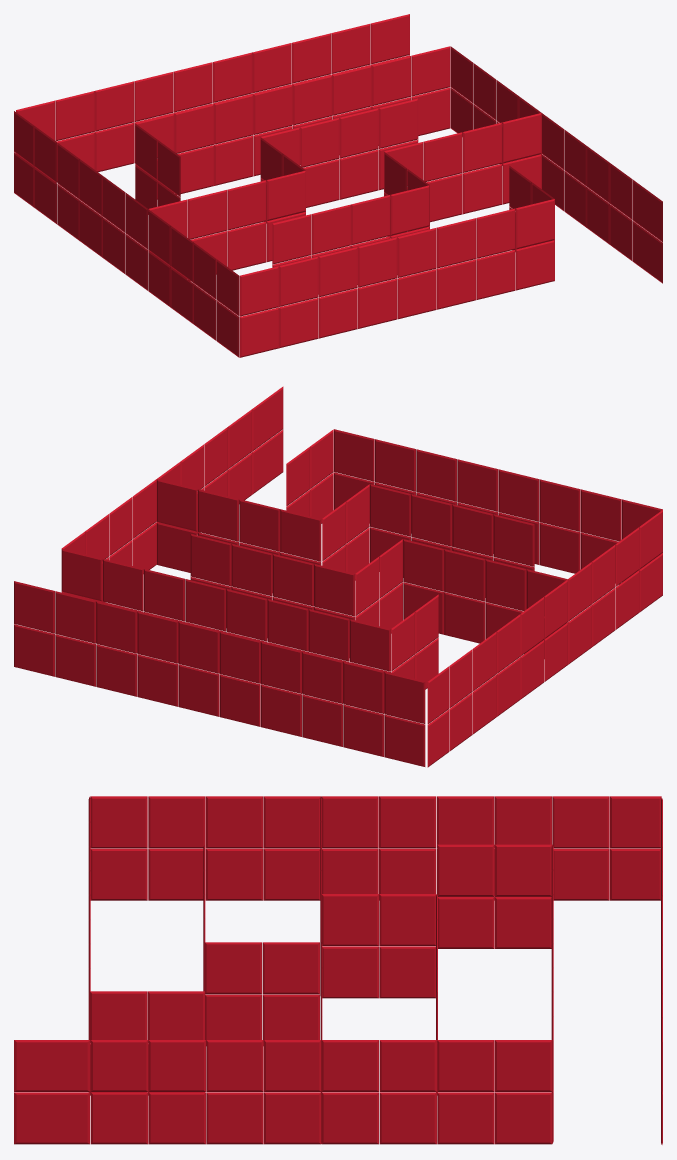
File: 玻璃墙v2.3.glb
The picture shows the model from 3 angles, top to bottom: view 1: azimuth 30°, elevation 25°; view 2: azimuth 150°, elevation 25°; view 3: azimuth 270°, elevation 25°; orthographic projection. The views are drawn at different scales.
Parts seen in each view (by area): view 1: 墙竖34, 墙竖38, 墙竖11, 墙竖41, 墙竖43, 墙竖49, 墙竖63, 墙竖65, 墙竖87, 墙竖91, 墙竖131, 墙竖137 (+90 smaller); view 2: 墙竖15, 墙竖45, 墙竖47, 墙竖75, 墙竖87, 墙竖99, 墙竖129, 墙竖122, 墙竖130, 墙竖134, 墙竖132, 墙竖17 (+90 smaller); view 3: 墙横2, 墙横1, 墙横8, 墙横84, 墙横4, 墙横6, 墙横10, 墙横56, 墙横52, 墙横82, 墙横80, 墙横86 (+38 smaller).
Part boxes in pixels (<box>): 墙竖34: <box>397,269,436,319</box>; 墙竖38: <box>318,288,357,338</box>; 墙竖11: <box>502,113,541,163</box>; 墙竖41: <box>239,266,278,316</box>; 墙竖43: <box>390,185,429,235</box>; 墙竖49: <box>272,214,311,264</box>; 墙竖63: <box>227,180,266,230</box>; 墙竖65: <box>266,170,305,220</box>; 墙竖87: <box>411,46,450,96</box>; 墙竖91: <box>332,65,371,115</box>; 墙竖131: <box>252,43,291,93</box>; 墙竖137: <box>370,14,409,64</box>; 墙竖15: <box>239,499,280,551</box>; 墙竖45: <box>411,494,452,546</box>; 墙竖47: <box>452,504,493,556</box>; 墙竖75: <box>231,544,272,596</box>; 墙竖87: <box>61,549,102,601</box>; 墙竖99: <box>308,609,349,661</box>; 墙竖129: <box>178,621,219,673</box>; 墙竖122: <box>343,704,384,756</box>; 墙竖130: <box>178,664,219,716</box>; 墙竖134: <box>96,644,137,696</box>; 墙竖132: <box>137,654,178,706</box>; 墙竖17: <box>280,509,321,561</box>; 墙横2: <box>14,1092,90,1144</box>; 墙横1: <box>14,1040,90,1091</box>; 墙横8: <box>206,1092,263,1144</box>; 墙横84: <box>437,1092,494,1144</box>; 墙横4: <box>91,1092,148,1144</box>; 墙横6: <box>148,1092,205,1144</box>; 墙横10: <box>264,1092,321,1144</box>; 墙横56: <box>206,848,263,900</box>; 墙横52: <box>90,848,147,900</box>; 墙横82: <box>379,1092,436,1144</box>; 墙横80: <box>321,1092,378,1144</box>; 墙横86: <box>495,1092,552,1144</box>.
Bounding box in the file's own units: 15.2 × 3.01 × 16.98.
